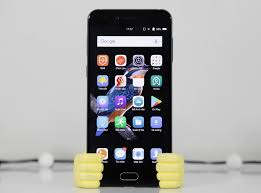bphone: (84, 6, 175, 189)
